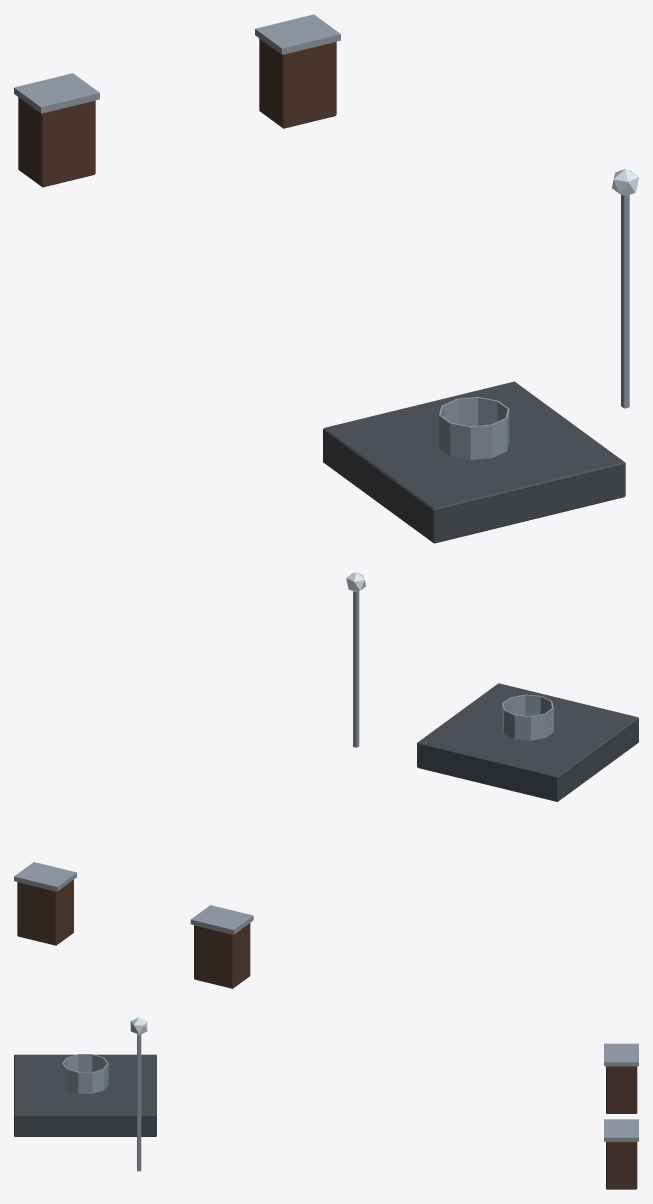
The model's file is Hut_Mast_0_-2.fbx.
The picture shows the model from 3 angles, top to bottom: view 1: azimuth 30°, elevation 25°; view 2: azimuth 150°, elevation 25°; view 3: azimuth 270°, elevation 25°; orthographic projection. The views are drawn at different scales.
Visible parts, largest first — view 1: Hut_Mast_0_-2; view 2: Hut_Mast_0_-2; view 3: Hut_Mast_0_-2.
Boxes of the visible parts, bbox=[...] form: Hut_Mast_0_-2: bbox=[14, 14, 638, 543]; Hut_Mast_0_-2: bbox=[14, 572, 638, 988]; Hut_Mast_0_-2: bbox=[14, 1017, 638, 1189].
Size of the model in its own units: 609 by 378 by 1399.
